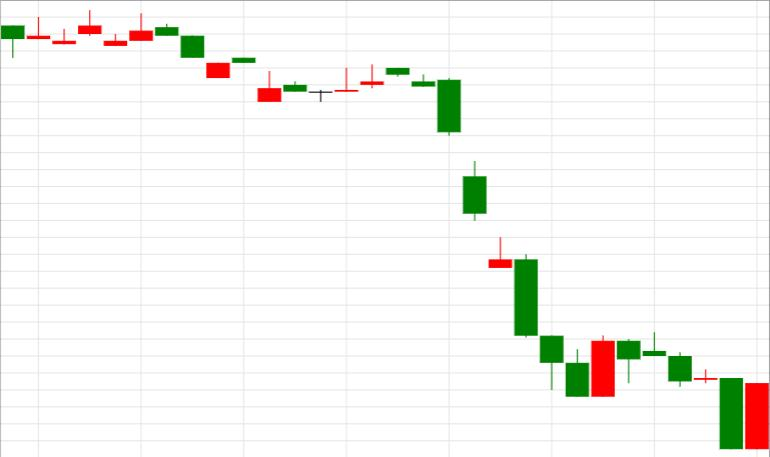bullish_engulfing_rise: (386, 68, 614, 397)
